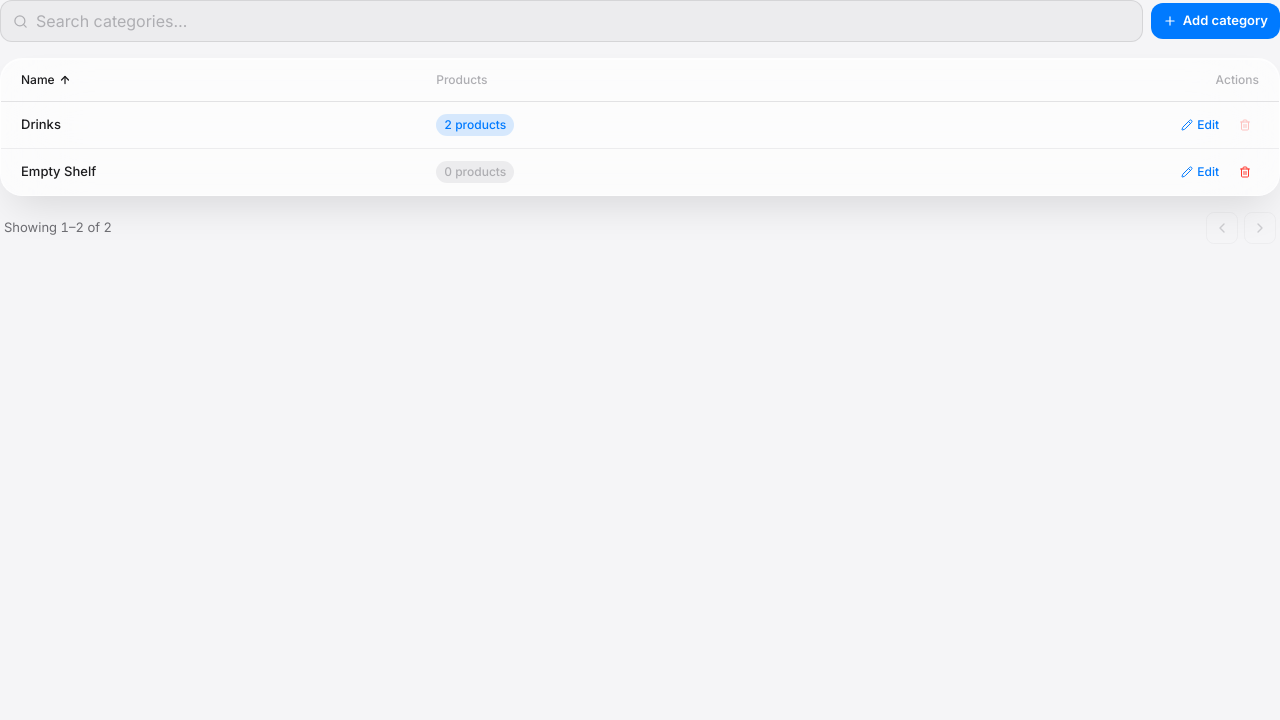
Categories › shows the server message when a name is already taken
The image size is (1280, 720).
Click the button "Add category": [1215, 21] box [1151,3,1279,39]
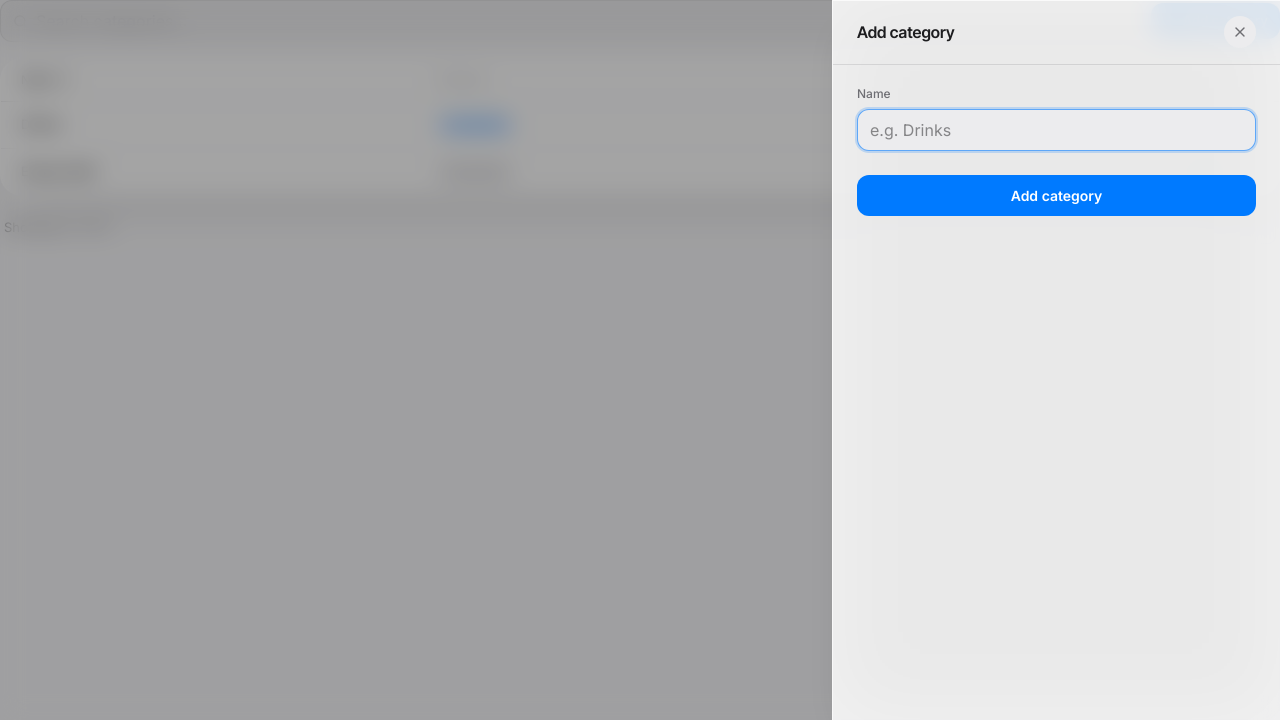
In the field labelled "Name": [1056, 130] box [857,109,1256,151], type "Drinks"
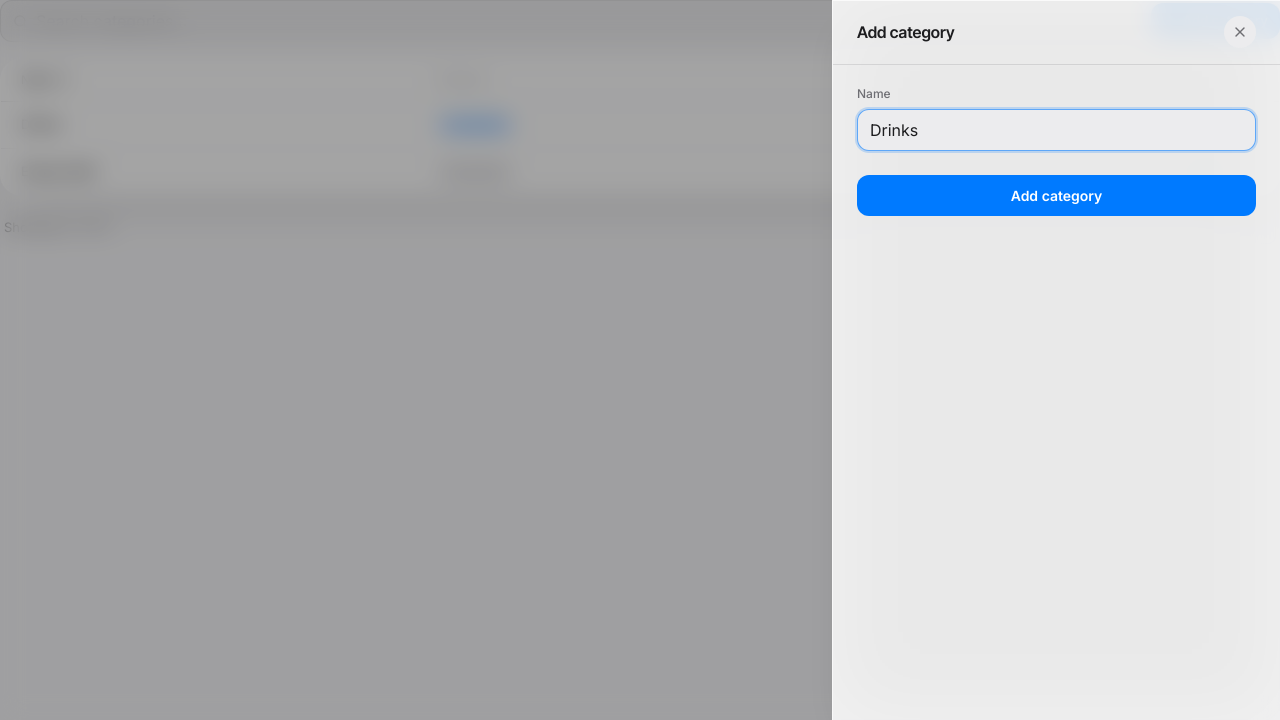
Click the button "Add category": [1056, 196] box [857,175,1256,216]
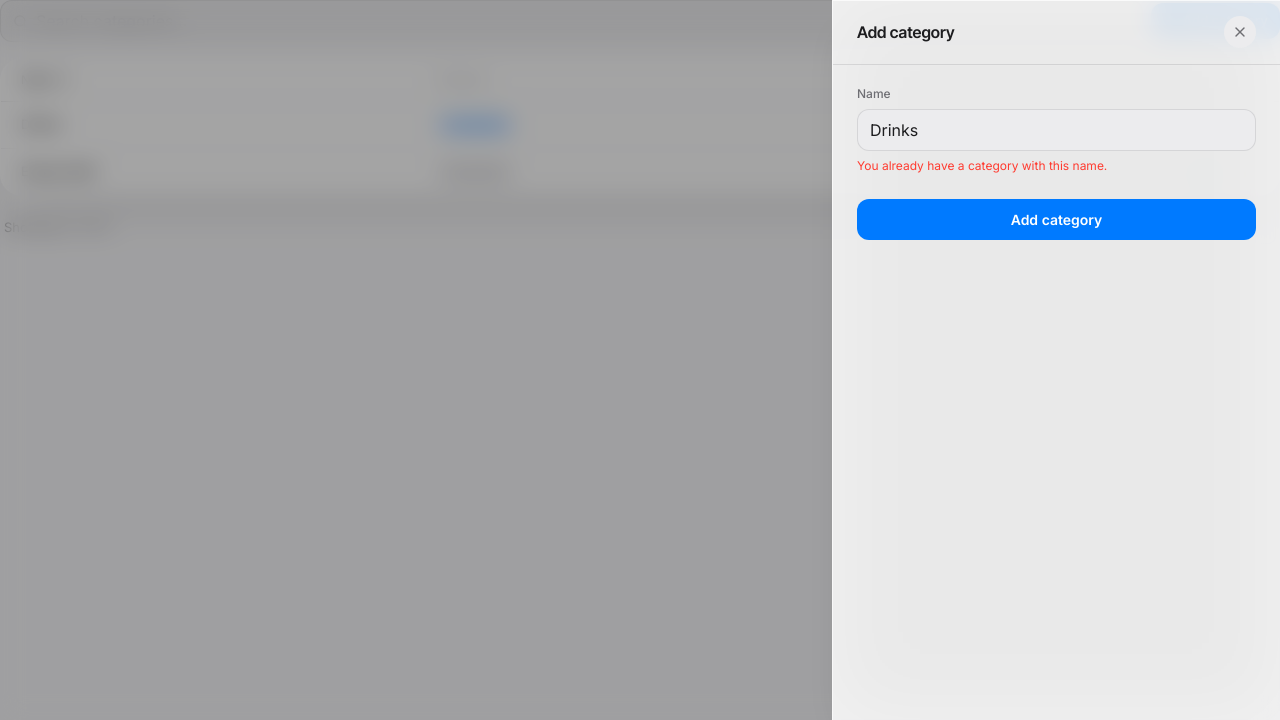
Expected: the text "You already have a category with this name." is shown, [857,158,1107,173]
